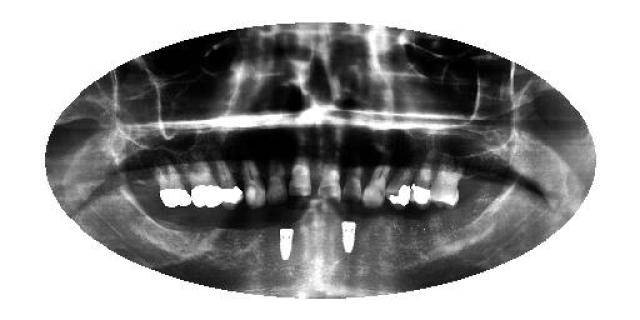Fillings: (182, 152, 226, 208), (150, 158, 194, 208), (214, 155, 242, 210), (410, 152, 438, 206), (385, 162, 415, 208)
Implant: (340, 218, 358, 256), (278, 224, 294, 264)
